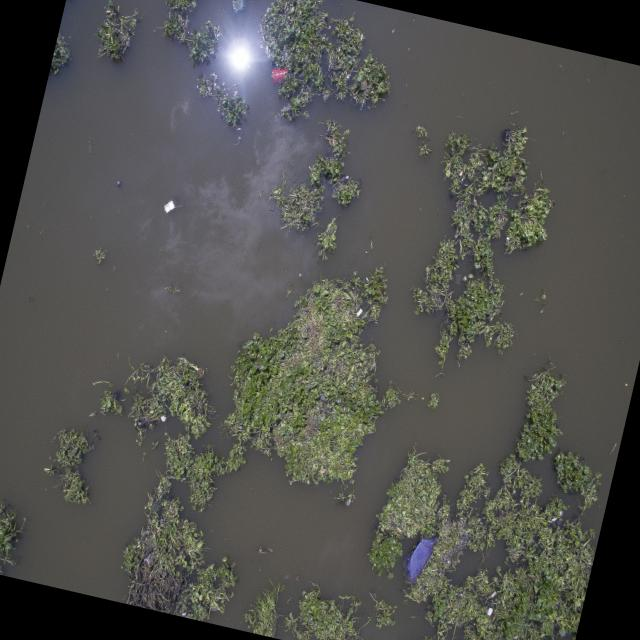Plastic: (396, 532, 436, 586), (161, 196, 178, 214), (342, 492, 352, 507)
